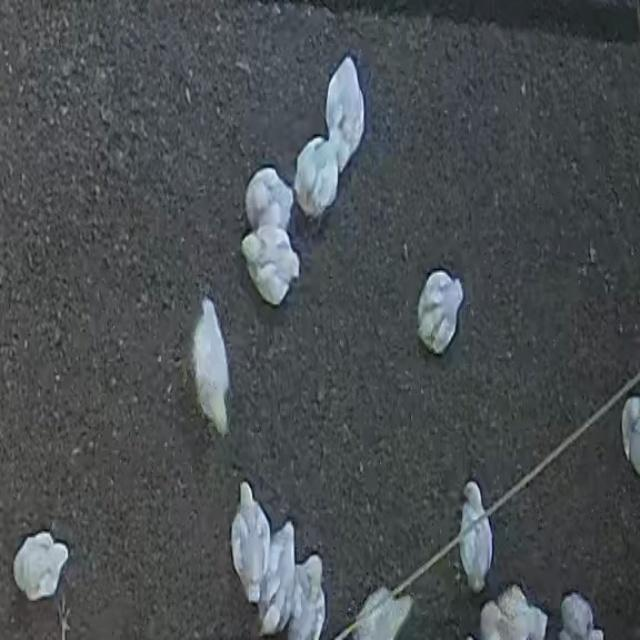chicken: (190, 295, 236, 440), (250, 519, 304, 640), (223, 482, 270, 600), (8, 530, 72, 605), (241, 229, 302, 305), (328, 55, 368, 169), (455, 482, 493, 596), (417, 269, 462, 357), (285, 552, 330, 640), (294, 136, 339, 222), (352, 584, 419, 640), (240, 168, 294, 234), (485, 585, 545, 640)
